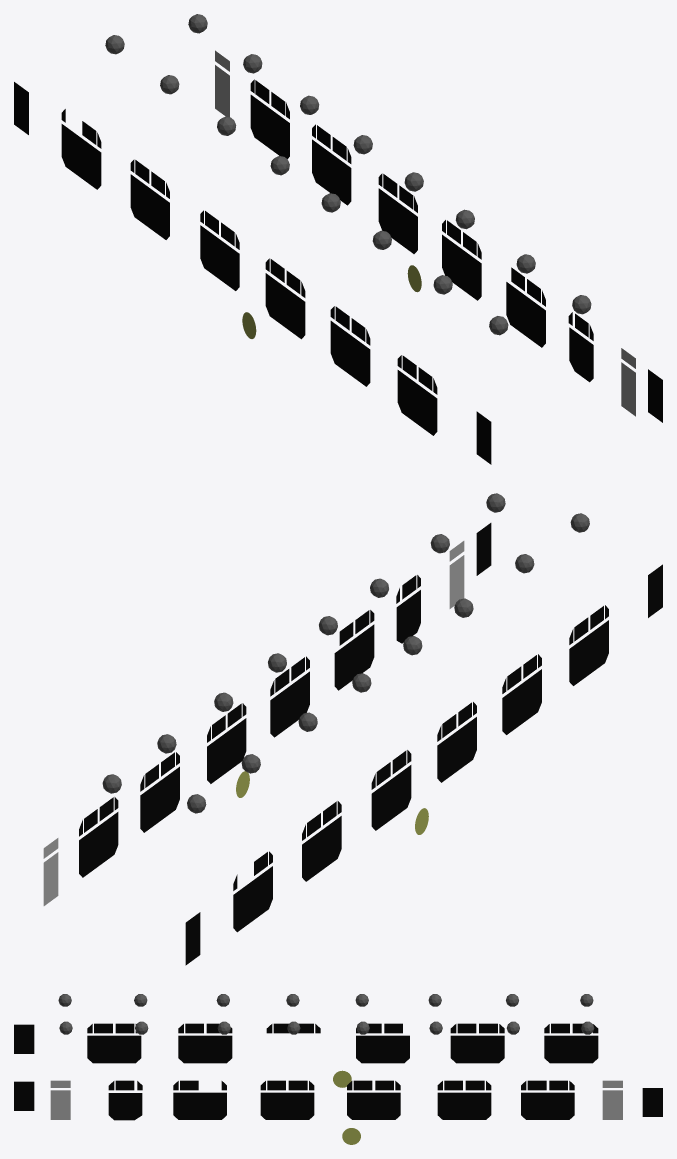
File: lms-period3-cor-first-windows.dae
The picture shows the model from 3 angles, top to bottom: view 1: azimuth 30°, elevation 25°; view 2: azimuth 150°, elevation 25°; view 3: azimuth 270°, elevation 25°; orthographic projection. The views are drawn at different scales.
Parts seen in each view (by area): view 1: Plane_150, Plane_154, Plane_155, Plane_162, Plane_157, Plane_169, Plane_156, Plane_163, Plane_165, Plane_164, Plane_158, Plane_034 (+5 smaller); view 2: Plane_156, Plane_162, Plane_155, Plane_154, Plane_150, Plane_169, Plane_157, Plane_165, Plane_163, Plane_164, Plane_158, Plane_034 (+4 smaller); view 3: Plane_157, Plane_155, Plane_163, Plane_165, Plane_162, Plane_169, Plane_154, Plane_158, Plane_156, Plane_164, Plane_034, Plane_166 (+7 smaller).
Boxes of the visible parts, <box> form: Plane_150: <box>265,258,305,339</box>; Plane_154: <box>330,306,370,386</box>; Plane_155: <box>397,355,437,435</box>; Plane_162: <box>250,79,289,158</box>; Plane_157: <box>130,159,169,239</box>; Plane_169: <box>378,173,417,253</box>; Plane_156: <box>200,210,239,290</box>; Plane_163: <box>312,124,351,205</box>; Plane_165: <box>442,220,481,300</box>; Plane_164: <box>506,267,545,347</box>; Plane_158: <box>61,109,101,189</box>; Plane_034: <box>568,312,593,382</box>; Plane_156: <box>371,750,411,830</box>; Plane_162: <box>79,797,118,877</box>; Plane_155: <box>569,605,608,685</box>; Plane_154: <box>502,654,541,734</box>; Plane_150: <box>437,702,476,782</box>; Plane_169: <box>207,703,246,783</box>; Plane_157: <box>302,801,341,881</box>; Plane_165: <box>270,656,309,737</box>; Plane_163: <box>140,752,179,832</box>; Plane_164: <box>334,610,374,690</box>; Plane_158: <box>233,851,272,932</box>; Plane_034: <box>396,575,420,643</box>; Plane_157: <box>450,1023,504,1063</box>; Plane_155: <box>87,1023,141,1063</box>; Plane_163: <box>437,1080,491,1119</box>; Plane_165: <box>260,1080,314,1119</box>; Plane_162: <box>521,1080,574,1119</box>; Plane_169: <box>347,1080,400,1119</box>; Plane_154: <box>178,1023,232,1063</box>; Plane_158: <box>544,1023,598,1063</box>; Plane_156: <box>356,1023,409,1063</box>; Plane_164: <box>173,1080,226,1119</box>; Plane_034: <box>108,1080,142,1120</box>; Plane_166: <box>602,1080,622,1119</box>.
Bounding box in the file's own units: 2.01 × 9.65 × 1.78.
